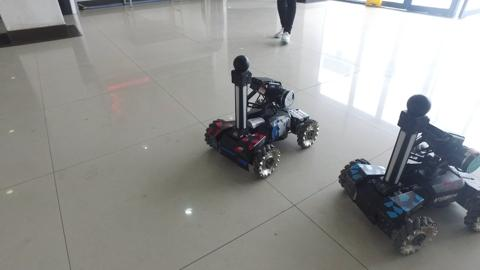chariot: (339, 88, 480, 262), (199, 53, 322, 183)
